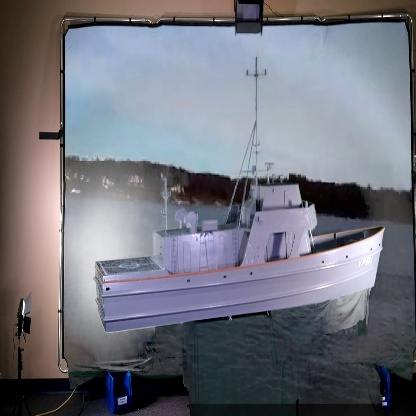YP689: (96, 56, 386, 336)
